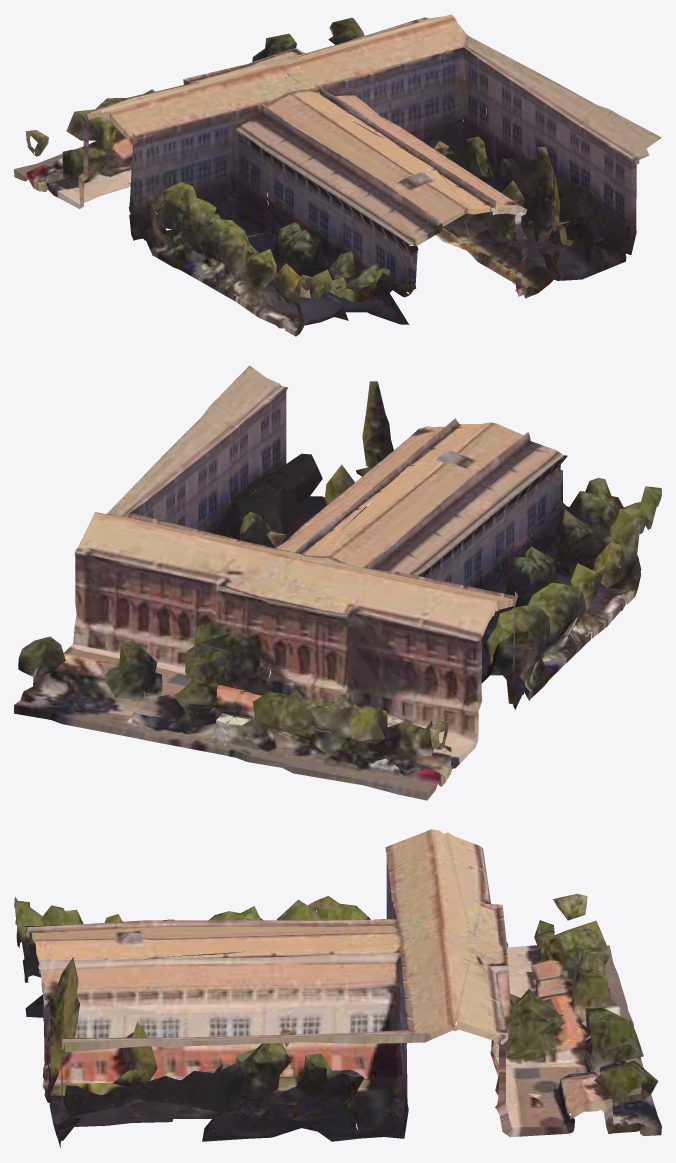
The picture shows the model from 3 angles, top to bottom: view 1: azimuth 30°, elevation 25°; view 2: azimuth 150°, elevation 25°; view 3: azimuth 270°, elevation 25°; orthographic projection. The views are drawn at different scales.
Parts seen in each view (by area): view 1: Mesh_0; view 2: Mesh_0; view 3: Mesh_0.
Boxes of the visible parts, x1,y1,x2,y2 form: Mesh_0: [14, 14, 661, 336]; Mesh_0: [14, 365, 661, 800]; Mesh_0: [14, 829, 661, 1148].
Size of the model in its own units: 66.55 by 21.55 by 82.42.
Materials: 2 (2 with a texture image).
